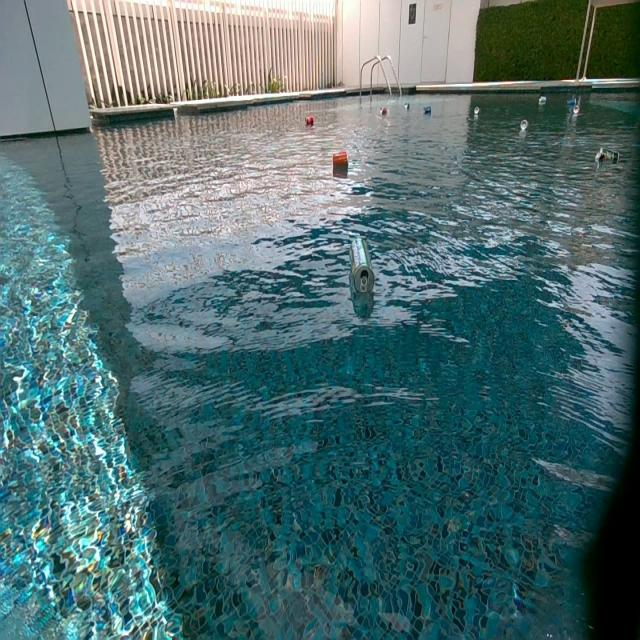Cans: (350, 238, 374, 300), (594, 148, 618, 166), (333, 152, 348, 168), (304, 115, 314, 126), (520, 118, 529, 130), (566, 99, 578, 108), (570, 105, 580, 115), (538, 96, 547, 106), (424, 106, 432, 116), (380, 106, 388, 115), (472, 107, 480, 115), (404, 102, 410, 110)
